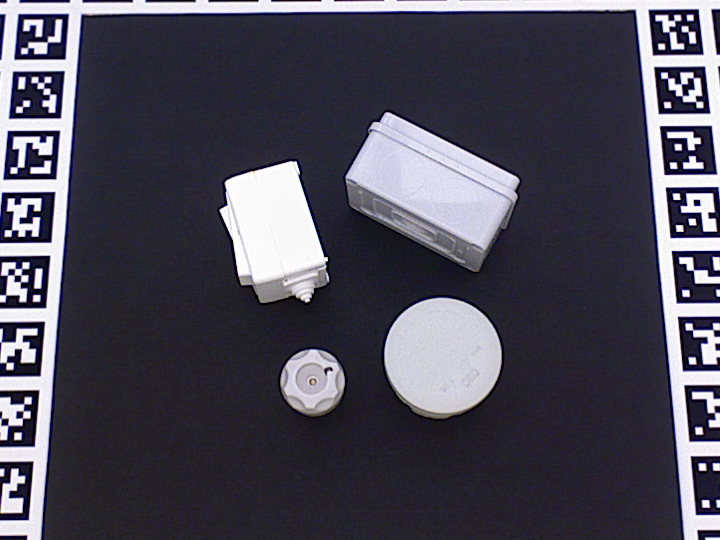Model 2: (278, 349, 342, 416)
Model 25: (219, 160, 328, 303)
Model 29: (343, 113, 517, 271)
Model 30: (381, 298, 499, 415)
